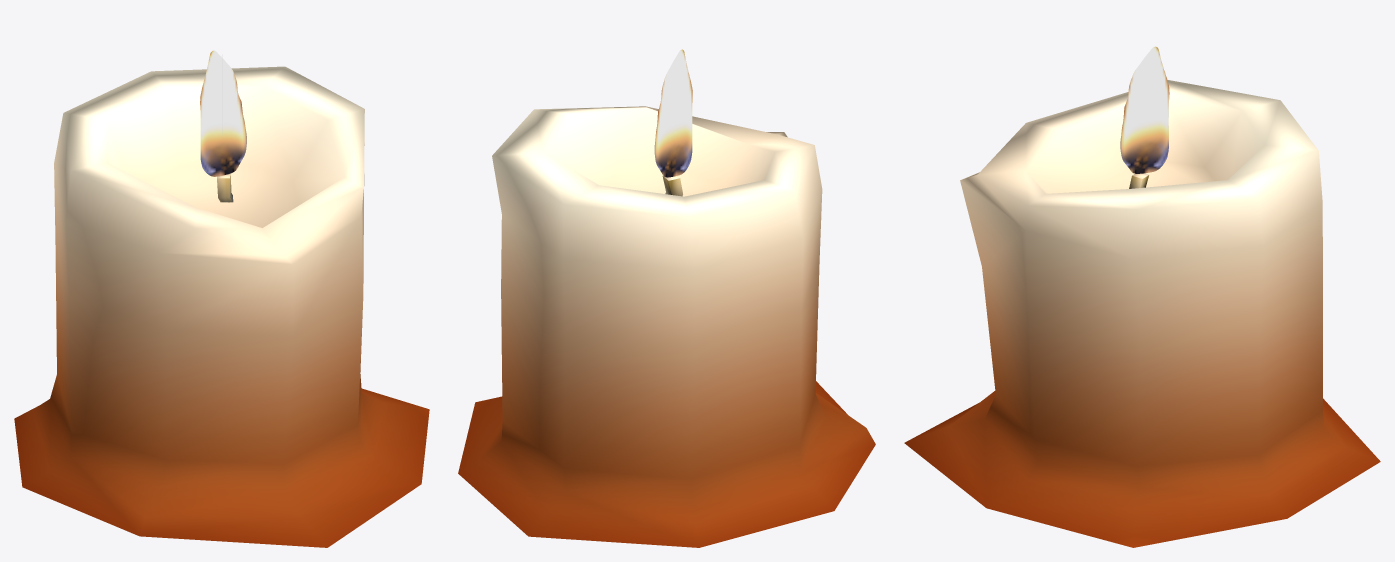
Rendered from CandleShapeC.030.glb.
3 views of the same model, side by side, from view 1: azimuth 30°, elevation 25°; view 2: azimuth 150°, elevation 25°; view 3: azimuth 270°, elevation 25° (orthographic).
Visible parts, largest first — view 1: CandleShapeC.030; view 2: CandleShapeC.030; view 3: CandleShapeC.030.
Boxes of the visible parts, x1,y1,x2,y2 form: CandleShapeC.030: (14,50,429,547); CandleShapeC.030: (458,49,875,547); CandleShapeC.030: (904,46,1380,547).
Bounding box in the file's own units: 0.1734 × 0.1799 × 0.1889.
Materials: 2 (2 with a texture image).
